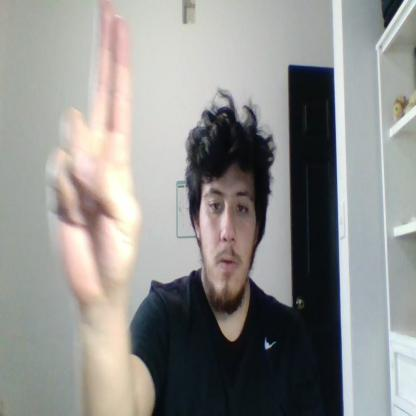U: (46, 0, 140, 311)
